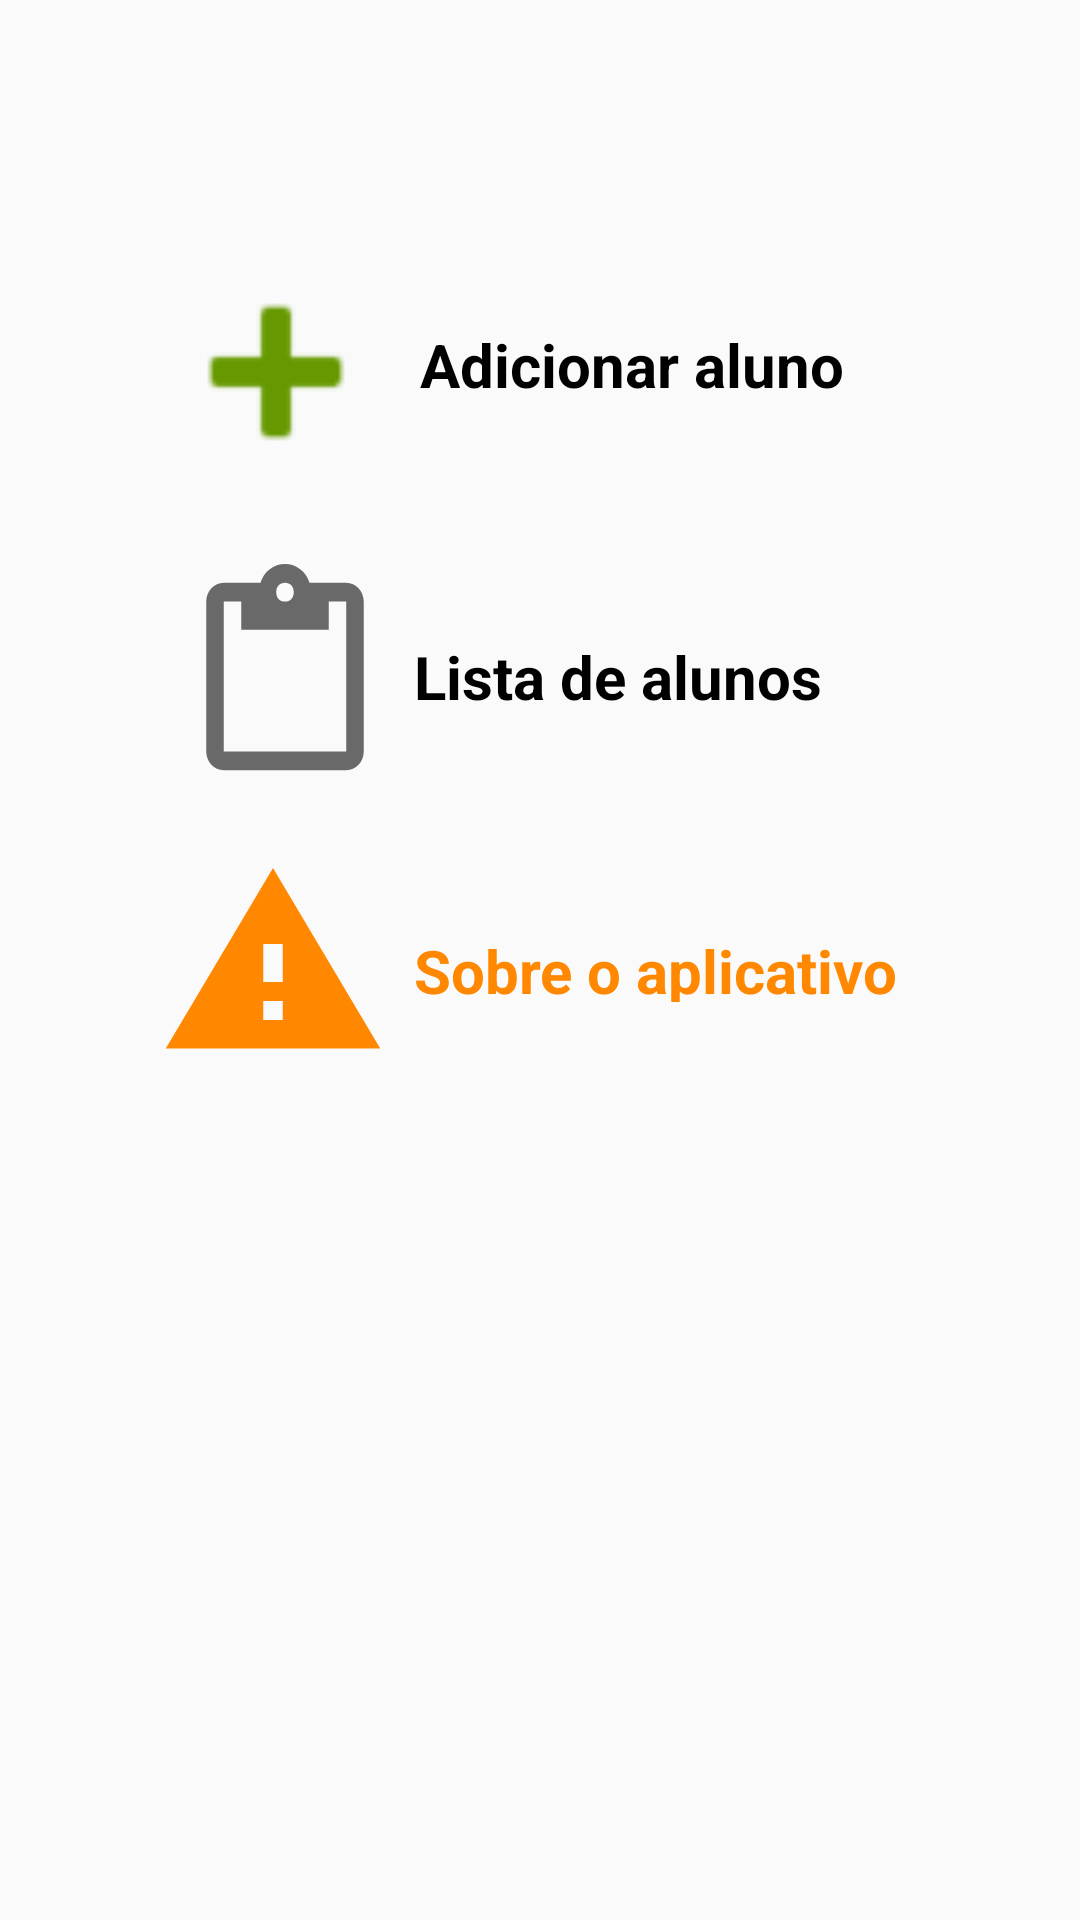

Icons on this 1080px x 1920px Android screen, each with the point to tap as (x,y):
add: (276,372)
